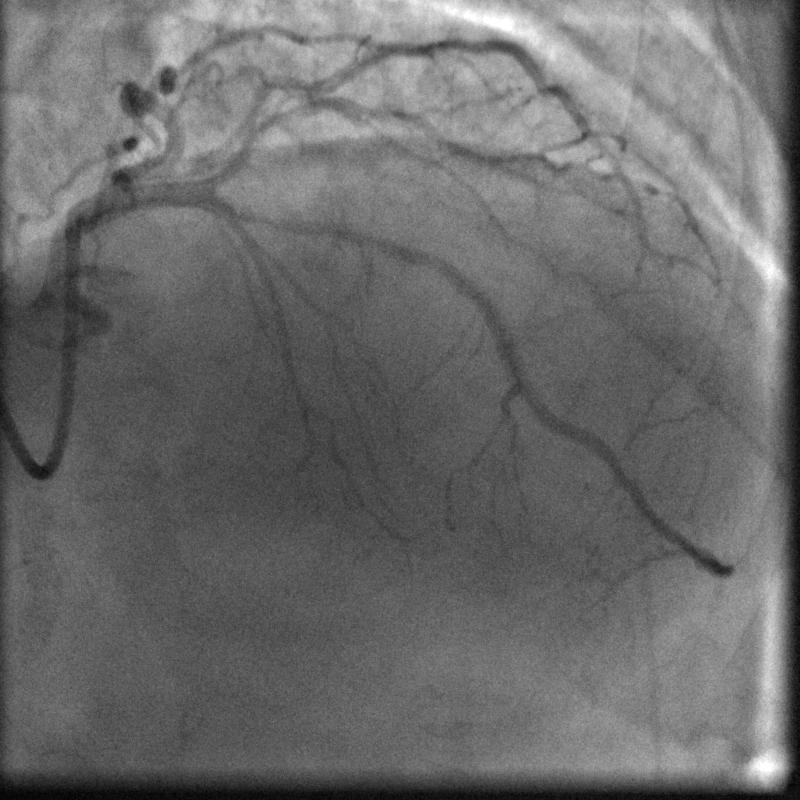Stenosis: (244, 199, 304, 240)
